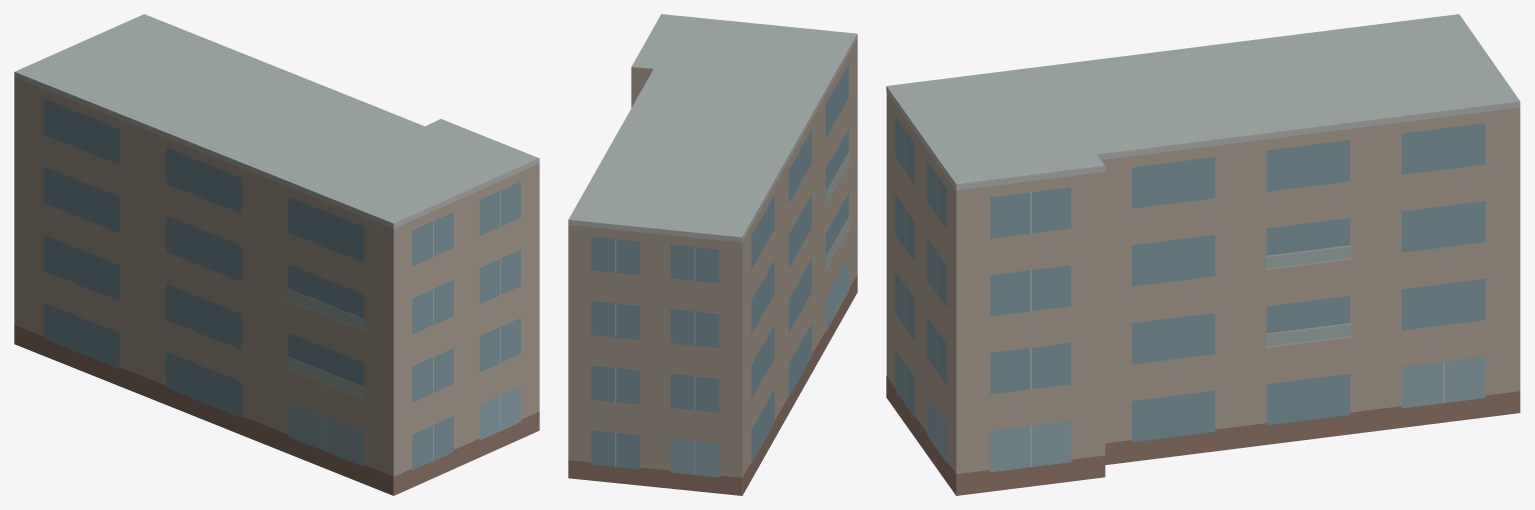
Rendered from survey-upis-32715501.glb.
3 renders of one model, left to right at view 1: azimuth 30°, elevation 25°; view 2: azimuth 150°, elevation 25°; view 3: azimuth 270°, elevation 25°, orthographic. The views are drawn at different scales.
Parts seen in each view (by area): view 1: survey-upis-32715501.tmp; view 2: survey-upis-32715501.tmp; view 3: survey-upis-32715501.tmp.
Part boxes in pixels (<box>): survey-upis-32715501.tmp: <box>14,14,539,495</box>; survey-upis-32715501.tmp: <box>568,14,857,495</box>; survey-upis-32715501.tmp: <box>886,14,1520,495</box>.
Bounding box in the file's own units: 14.61 × 12.45 × 22.97.
